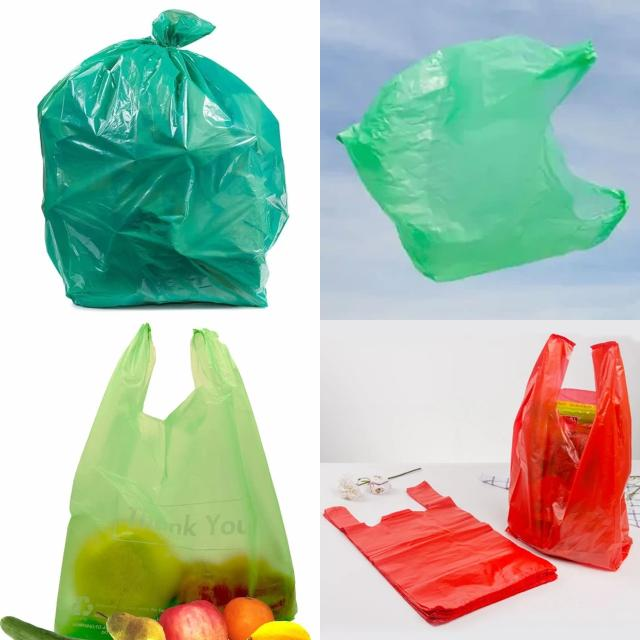Single-layer Plastic: (55, 325, 296, 640), (38, 11, 289, 308), (338, 36, 628, 281), (324, 481, 556, 625), (508, 334, 631, 570)
